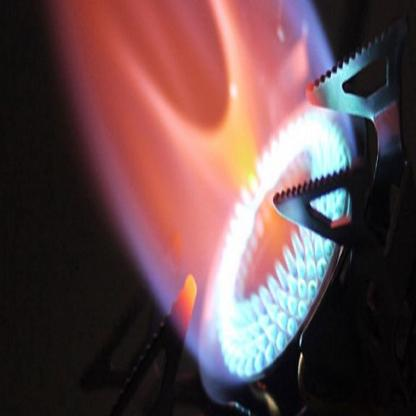fire: (41, 5, 355, 396)
